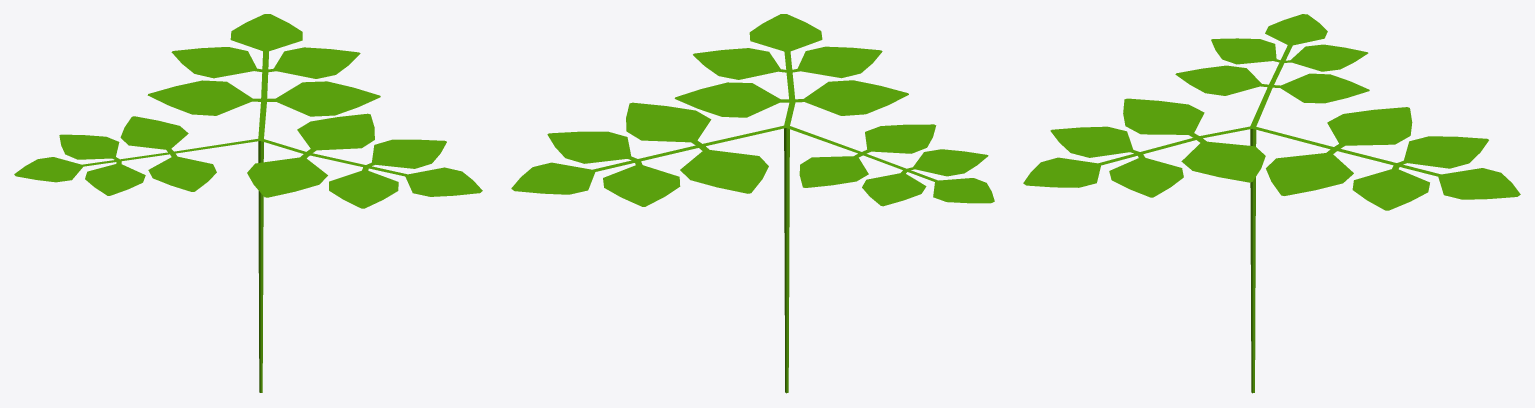
Rendered from potato_low_01.fbx.
3 views of the same model, side by side, from view 1: azimuth 30°, elevation 25°; view 2: azimuth 150°, elevation 25°; view 3: azimuth 270°, elevation 25° (orthographic). The views are drawn at different scales.
Visible parts, largest first — view 1: Plane.003; view 2: Plane.003; view 3: Plane.003.
Boxes of the visible parts, x1,y1,x2,y2 form: Plane.003: (14,14,482,392); Plane.003: (511,14,994,393); Plane.003: (1023,14,1520,393).
Size of the model in its own units: 89.18 by 56.18 by 95.34.
